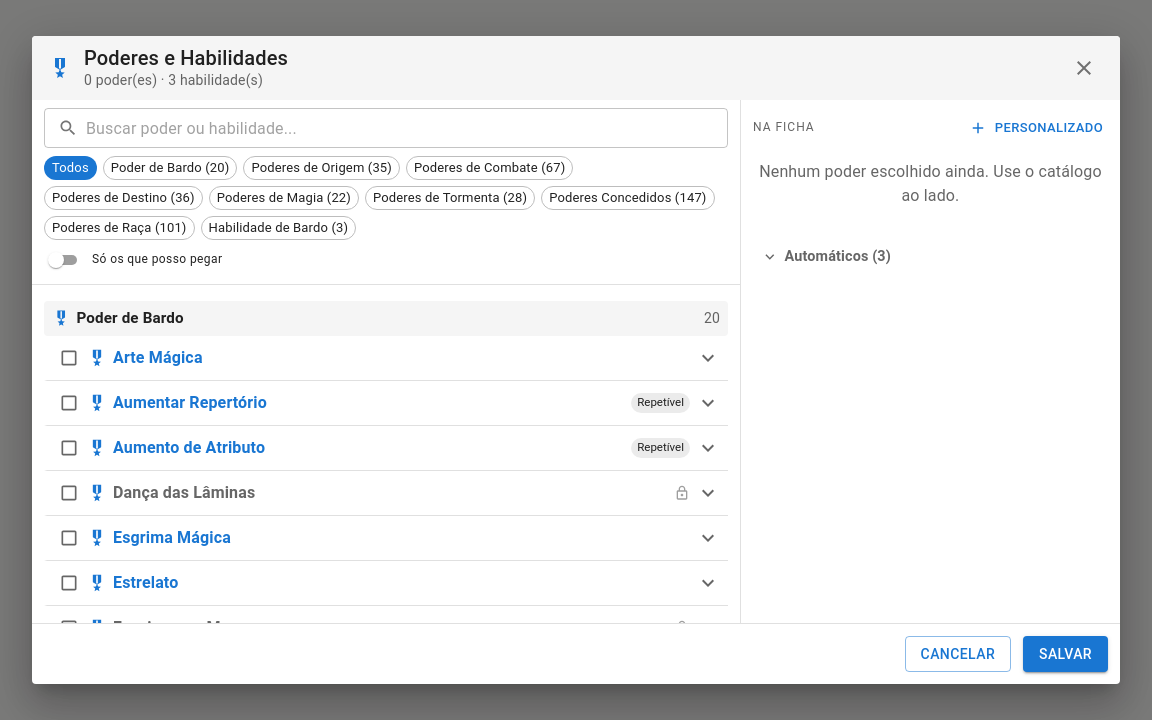
Test case: poderes que exigem escolha manual › abre o diálogo de escolha e retém o poder até a confirmação
In the field with placeholder "Buscar poder ou habilidade...": [407, 128] box [86,108,728,148], type "Aumento de Atributo"
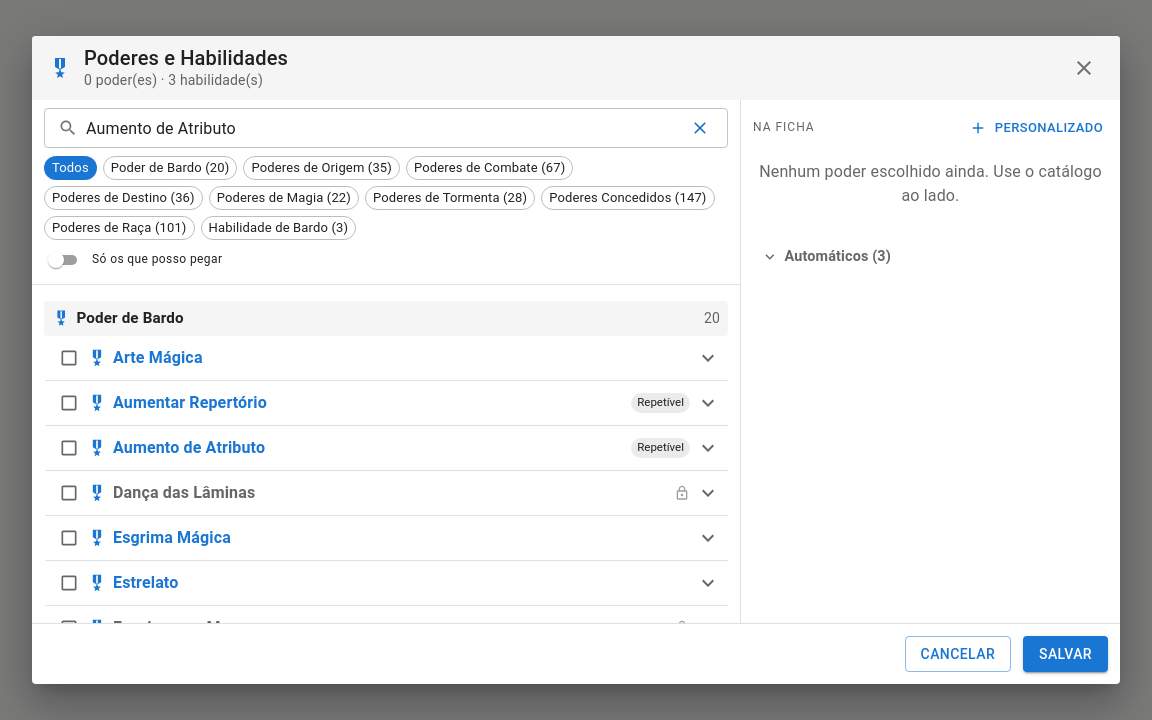
Click the checkbox named "Selecionar Aumento de Atributo": [69, 448] box [59,438,79,458]
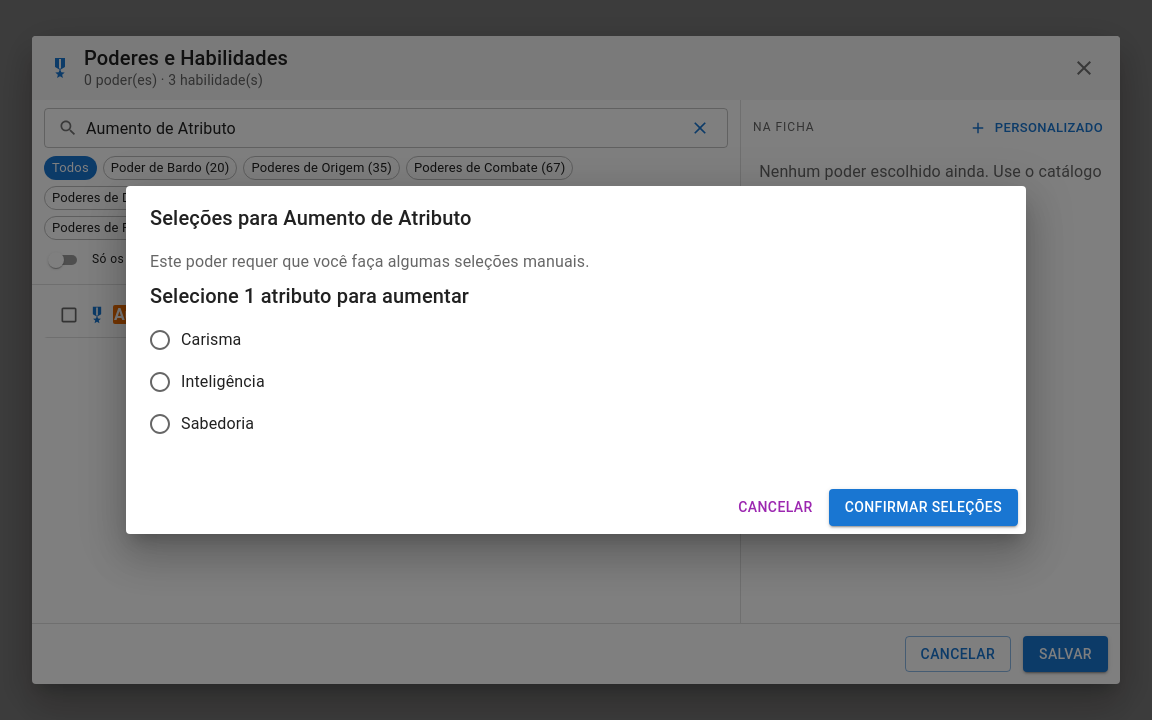
Expected: the heading "Selecione 1 atributo para aumentar" is shown, [150,284,469,308]
